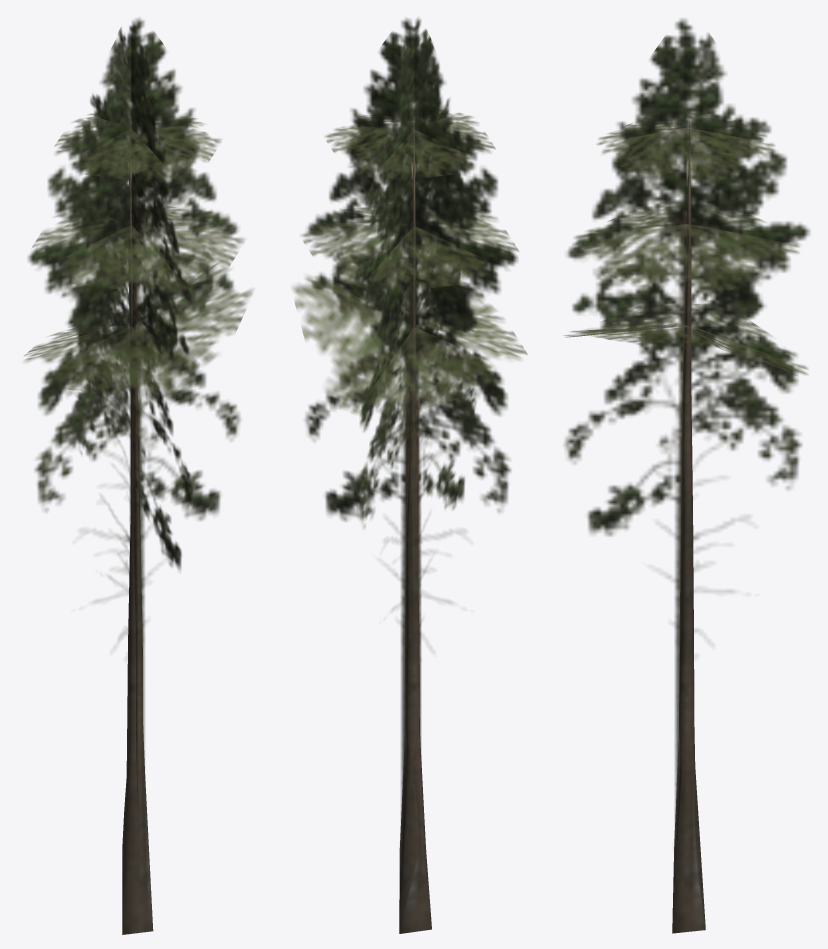
The model's file is forest_tree_7.glb.
3 views of the same model, side by side, from view 1: azimuth 30°, elevation 25°; view 2: azimuth 150°, elevation 25°; view 3: azimuth 270°, elevation 25° (orthographic).
Parts seen in each view (by area): view 1: Background_Tree_Atlas.007_Background_Tree_Atlas_0; view 2: Background_Tree_Atlas.007_Background_Tree_Atlas_0; view 3: Background_Tree_Atlas.007_Background_Tree_Atlas_0.
Part boxes in pixels (x1,y1,x2,y2): Background_Tree_Atlas.007_Background_Tree_Atlas_0: (24,18,252,934); Background_Tree_Atlas.007_Background_Tree_Atlas_0: (293,17,527,933); Background_Tree_Atlas.007_Background_Tree_Atlas_0: (564,18,809,933).
Bounding box in the file's own units: 3.25 × 13.01 × 3.26.
1 material, 1 textured.
